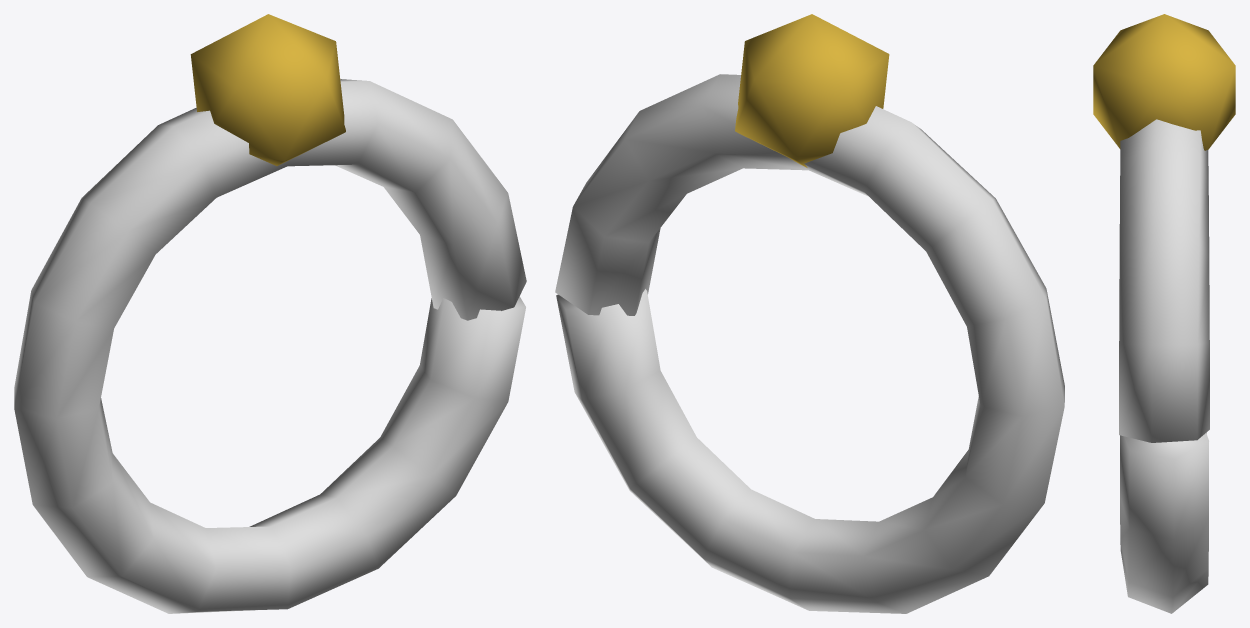
The model's file is cross_necklace.glb.
The picture shows the model from 3 angles, left to right: view 1: azimuth 30°, elevation 25°; view 2: azimuth 150°, elevation 25°; view 3: azimuth 270°, elevation 25°; orthographic projection. The views are drawn at different scales.
Parts seen in each view (by area): view 1: cross_necklace_v0; view 2: cross_necklace_v0; view 3: cross_necklace_v0.
Part boxes in pixels (<box>): cross_necklace_v0: <box>14,14,526,613</box>; cross_necklace_v0: <box>555,14,1064,613</box>; cross_necklace_v0: <box>1093,14,1235,613</box>.
Size of the model in its own units: 0.1674 by 0.1889 by 0.0425.
